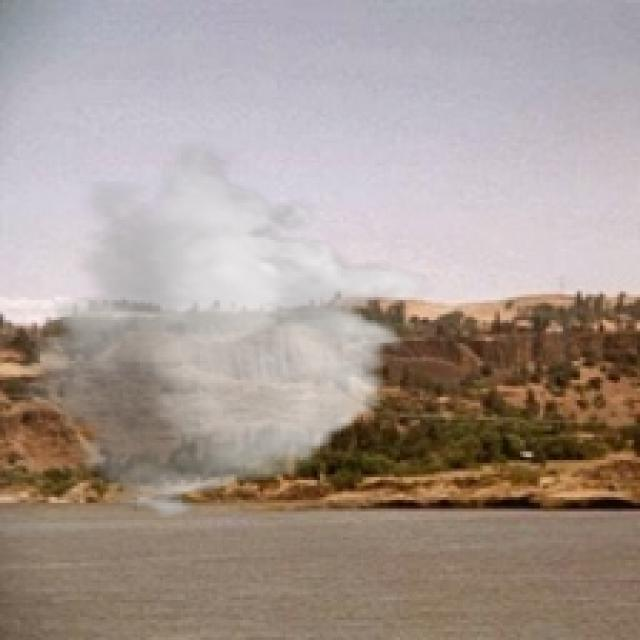Smoke: (8, 143, 434, 523)
